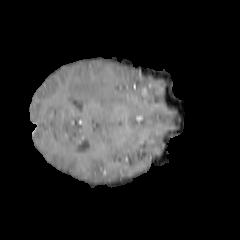glioma: (60, 65, 131, 110)
